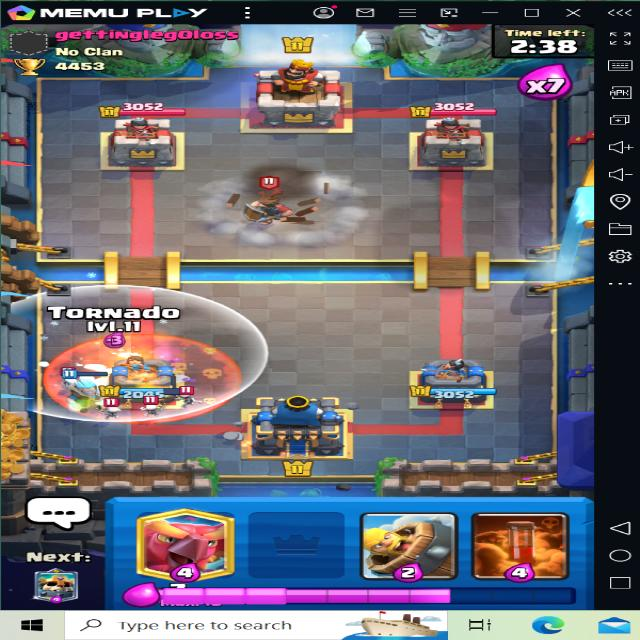poison: (44, 328, 243, 424)
royal-recruits: (242, 177, 297, 231)
skeleton: (135, 395, 164, 415), (177, 388, 202, 408), (99, 399, 125, 418)
